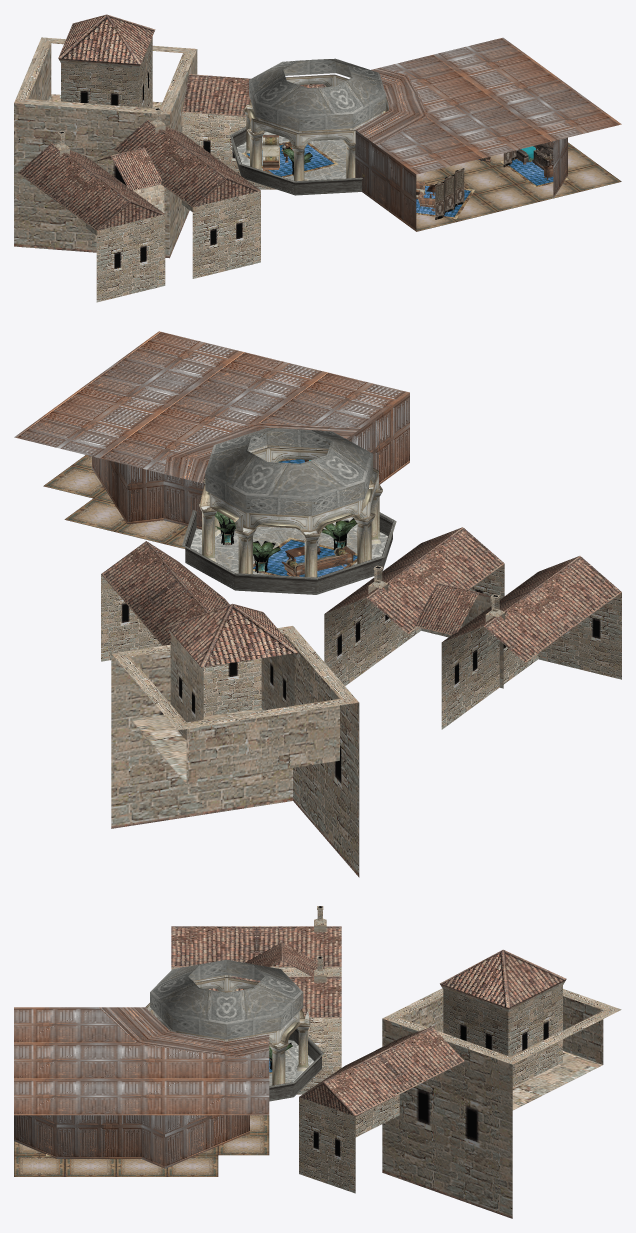
File: queen_room.glb
3 renders of one model, top to bottom at view 1: azimuth 30°, elevation 25°; view 2: azimuth 150°, elevation 25°; view 3: azimuth 270°, elevation 25°, orthographic. The views are drawn at different scales.
Visible parts, largest first — view 1: FModMeshpart 001; view 2: FModMeshpart 001; view 3: FModMeshpart 001.
Part boxes in pixels (x1,y1,x2,y2): FModMeshpart 001: (14, 14, 621, 302); FModMeshpart 001: (14, 331, 621, 877); FModMeshpart 001: (14, 906, 621, 1218).
Bounding box in the file's own units: 33 × 15.29 × 35.73.
Materials: 8 (8 with a texture image).
